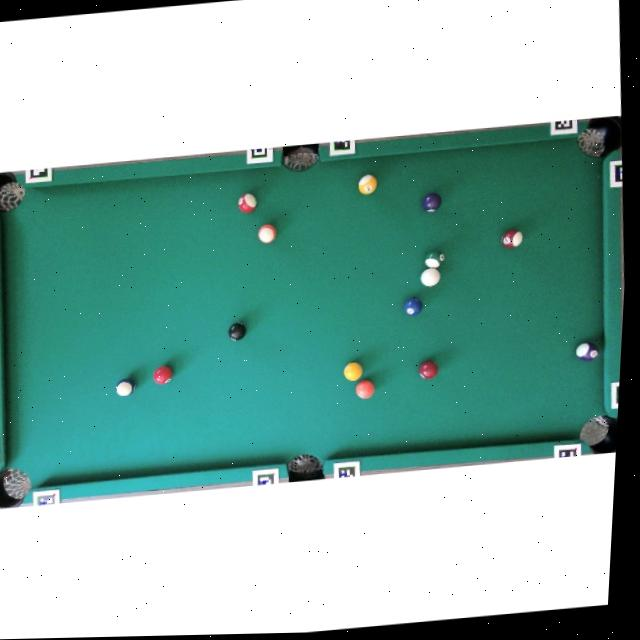cue ball: (420, 267, 441, 287)
other: (575, 340, 600, 362), (500, 228, 524, 249), (417, 358, 439, 380), (356, 173, 378, 194), (341, 360, 363, 381), (420, 191, 442, 212), (236, 192, 257, 214), (423, 248, 445, 269), (152, 365, 174, 385), (353, 379, 375, 399), (227, 321, 248, 341), (257, 223, 278, 243), (402, 297, 423, 316), (114, 378, 135, 397)
